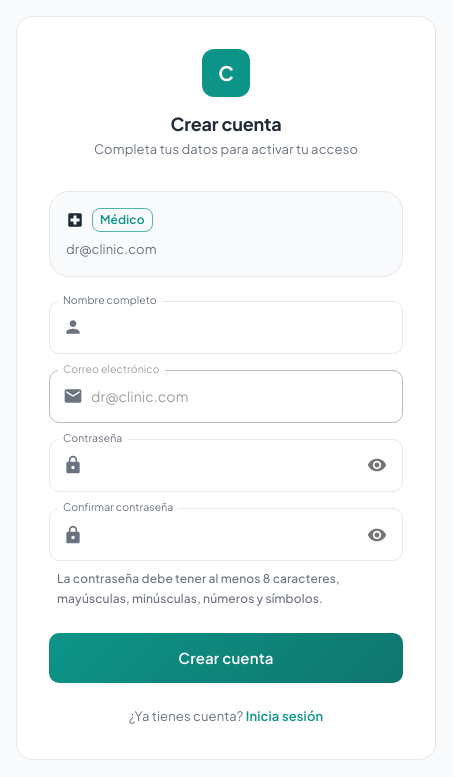
Scenario: RegisterPage › submits the form and shows the success view
The width and height of the screenshot is (453, 777).
Expected: the heading "Crear cuenta" is shown, [170,112,282,135]
Step 1. Type "Ana Torres" into the field labelled "Nombre completo" → (247, 327), box [91,301,403,354]
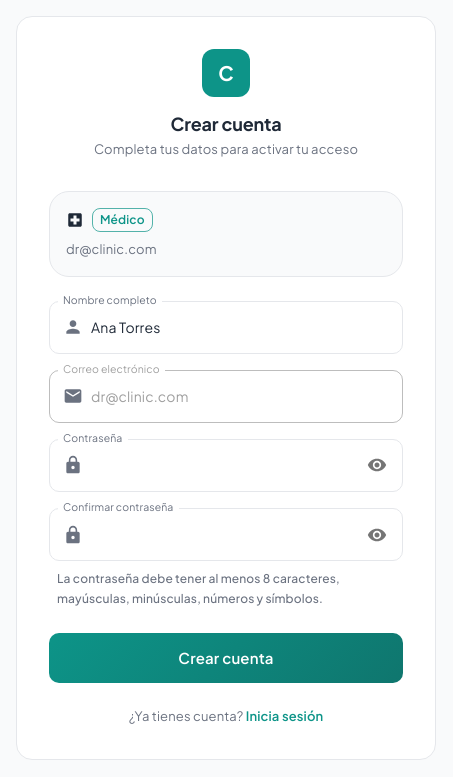
Step 2. Type "Str0ng!pass" into the password field labelled "Contraseña" → (222, 465), box [91,439,354,492]
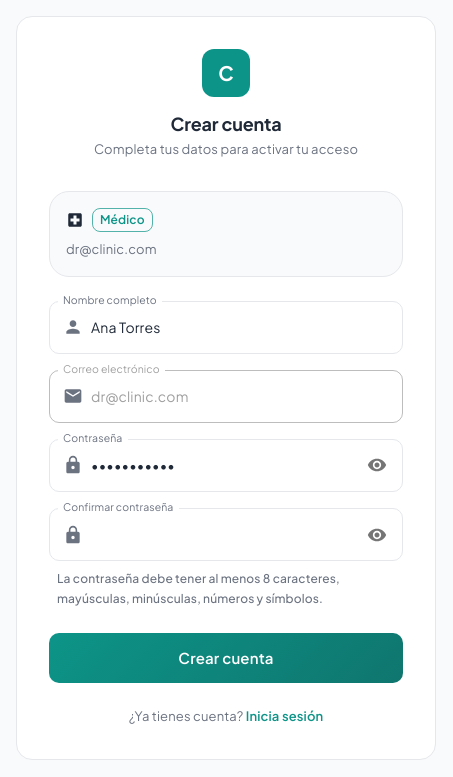
Step 3. Type "Str0ng!pass" into the password field labelled "Confirmar contraseña" → (222, 535), box [91,508,354,561]
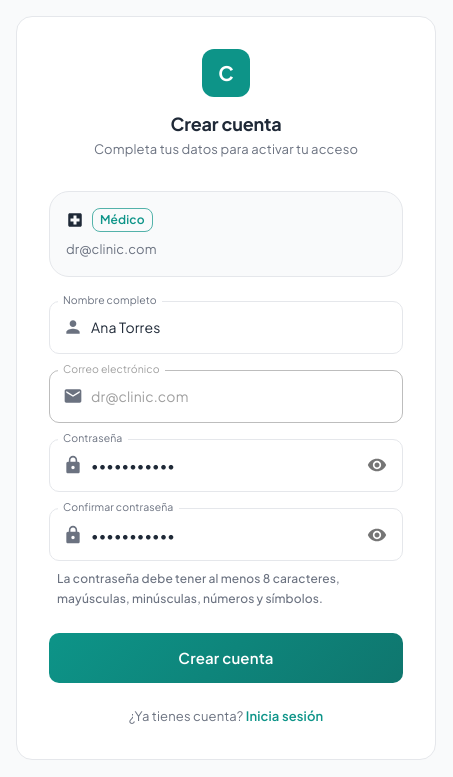
Step 4. Click the button "Crear cuenta" → (226, 658), box [49,633,403,683]
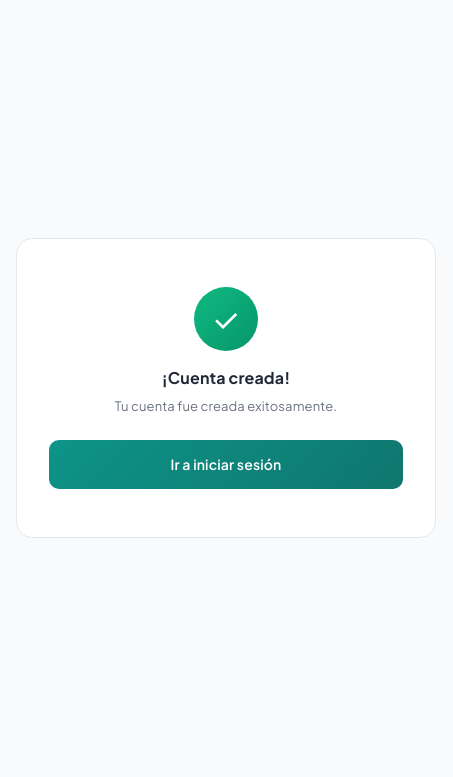
Result: the heading "¡Cuenta creada!" is shown at [162,367,290,388]
Result: the button "Ir a iniciar sesión" is shown at [49,440,403,489]
